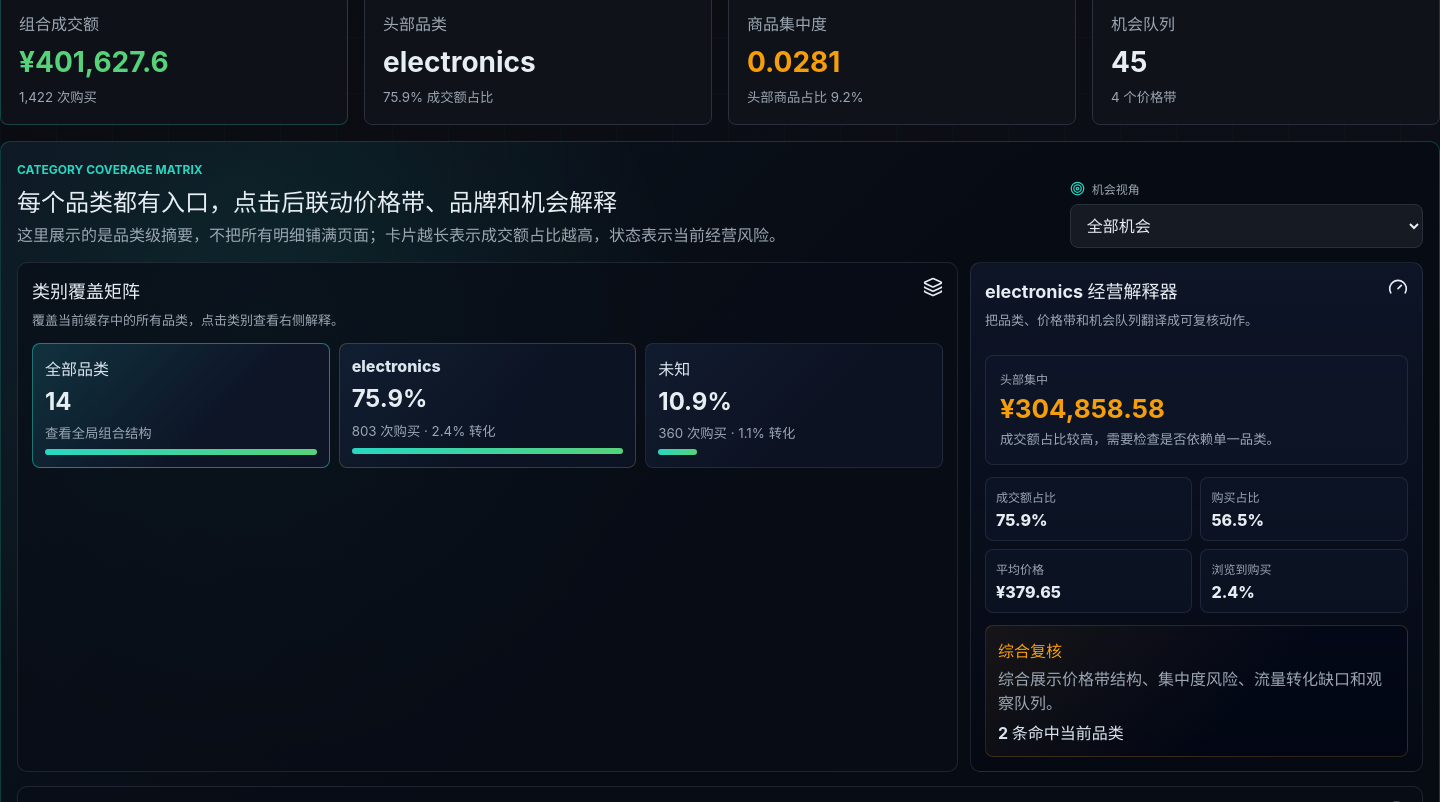
Test: PortfolioPage › lets operators filter by category and opportunity type
(page scrolled)
Click the button "electronics 75.9% 803 次购买 · 2.4% 转化" at (396, 366), box [339,343,636,468]
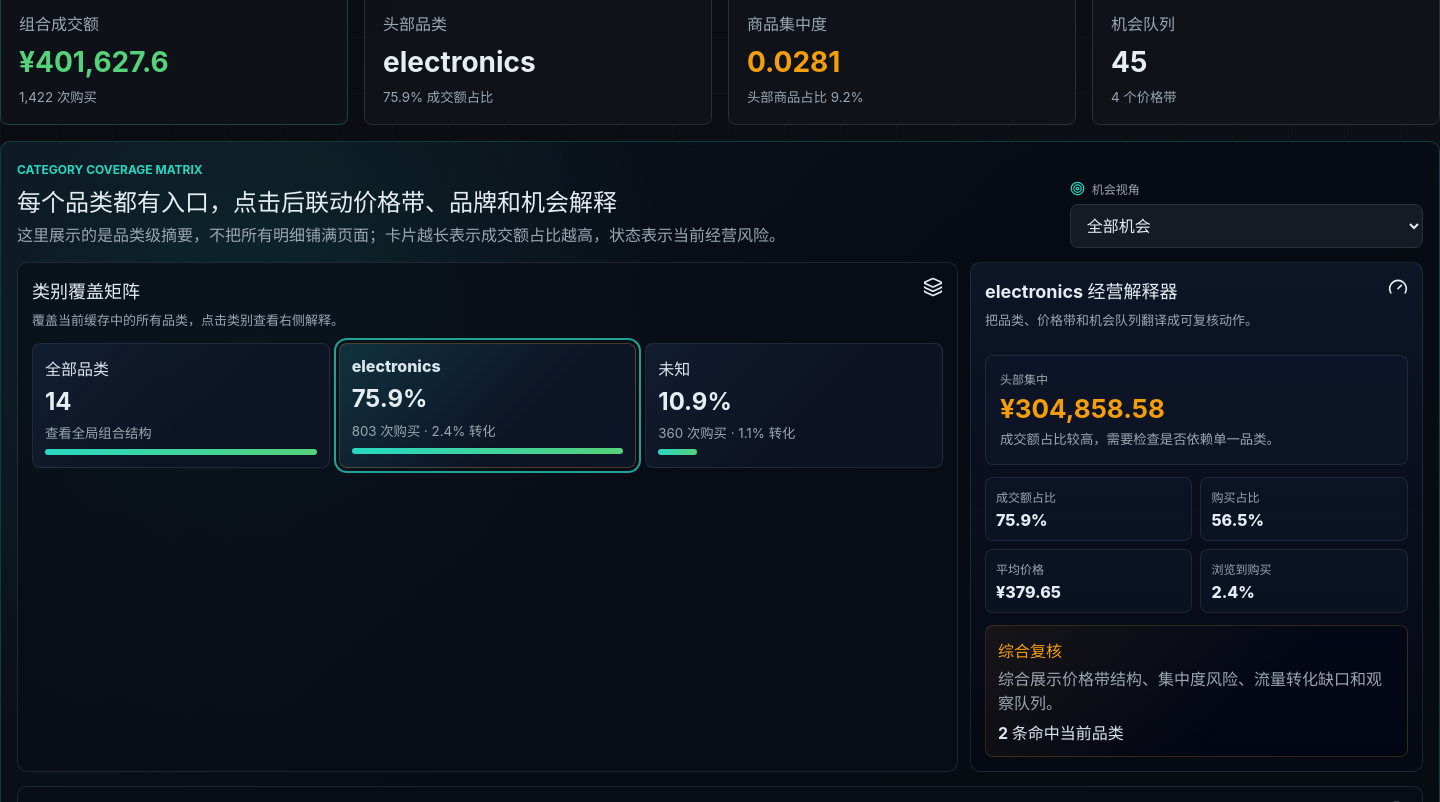
Select "集中度风险" in the dropdown labelled "机会视角" at (1246, 226), box [1070,204,1423,248]
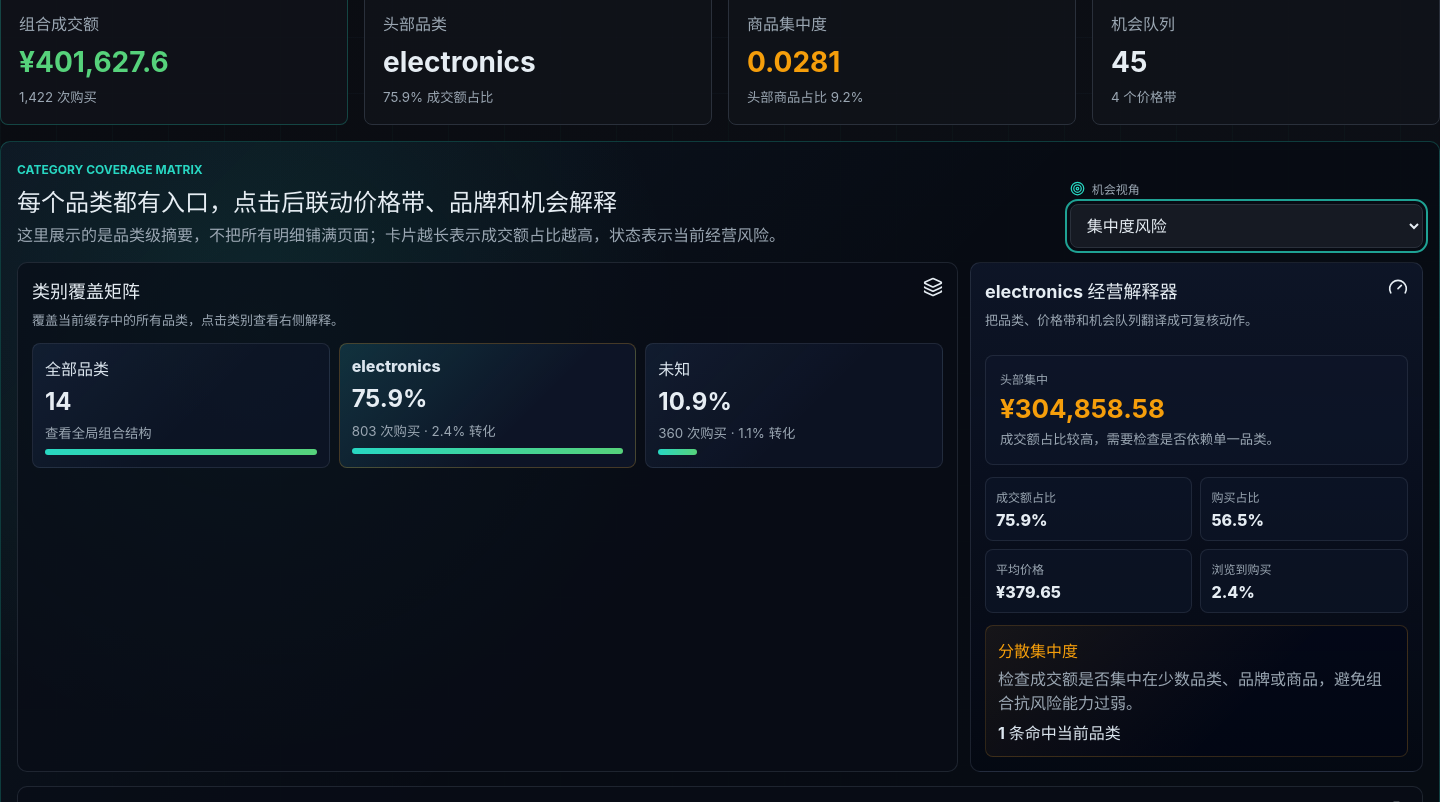
Check: the text "检查成交额是否集中在少数品类、品牌或商品，避免组合抗风险能力过弱。" is shown, box [998,667,1395,715]
